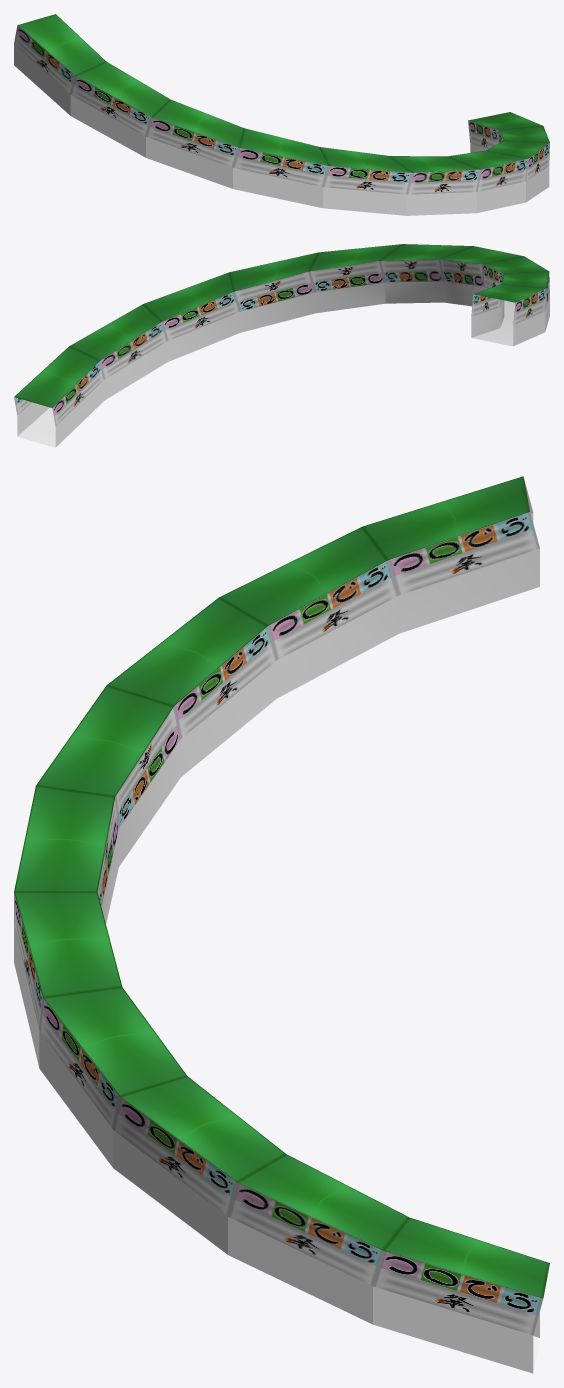
File: CourseWinter_Wall_L_8.fbx
3 renders of one model, top to bottom at view 1: azimuth 30°, elevation 25°; view 2: azimuth 150°, elevation 25°; view 3: azimuth 270°, elevation 25°, orthographic. The views are drawn at different scales.
Parts seen in each view (by area): view 1: polySurface396; view 2: polySurface396; view 3: polySurface396.
Boxes of the visible parts, box(x1,y1,x2,y2) form: polySurface396: box(14, 14, 549, 215); polySurface396: box(14, 244, 549, 447); polySurface396: box(14, 476, 549, 1373).
Bounding box in the file's own units: 24.59 × 11.97 × 12.67.
1 material, 1 textured.
